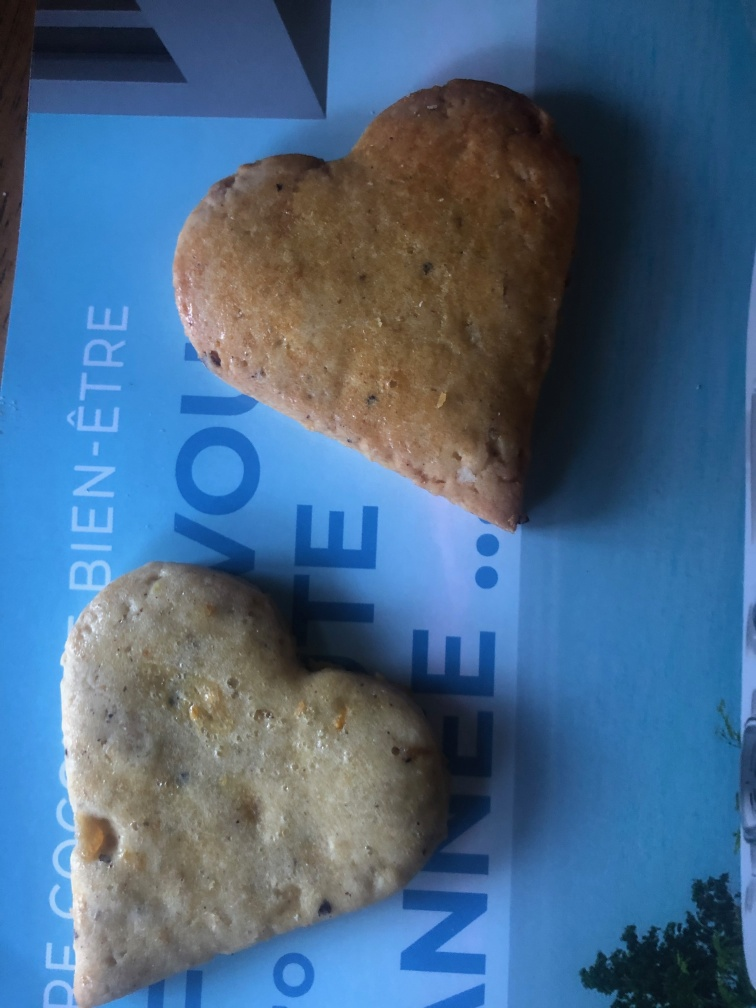heart: (167, 68, 583, 534), (51, 558, 451, 1008)
